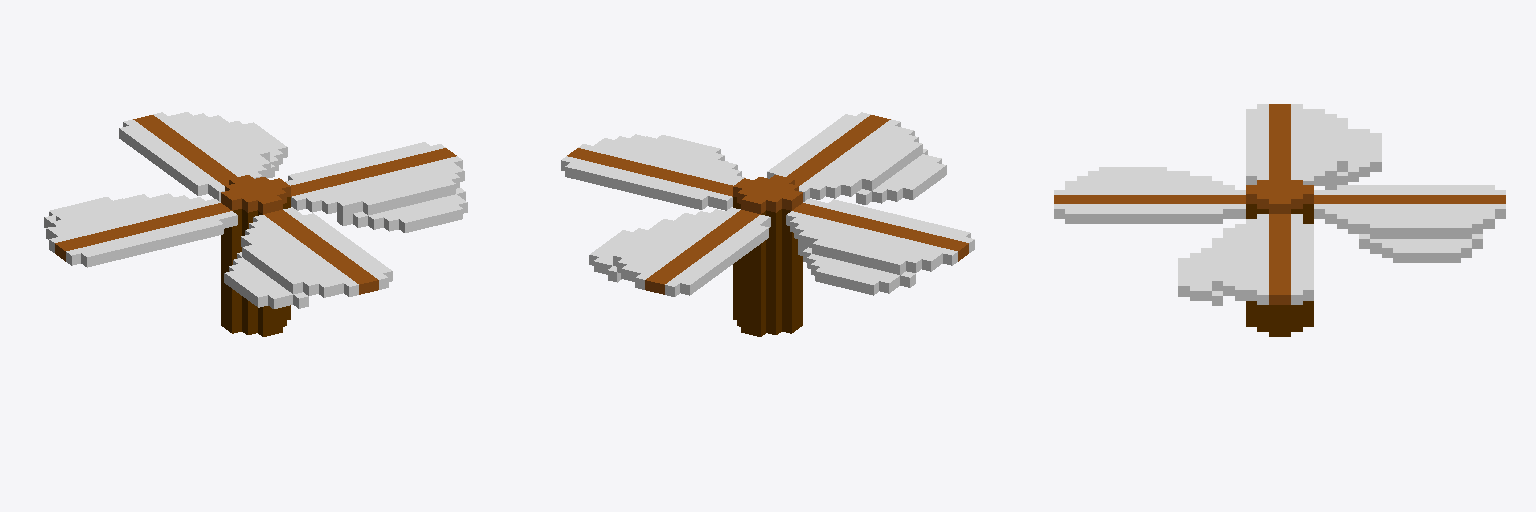
The picture shows the model from 3 angles: view 1: azimuth 30°, elevation 25°; view 2: azimuth 150°, elevation 25°; view 3: azimuth 270°, elevation 25°; orthographic projection.
Size of the model in its own units: 40 by 13 by 40.
Materials: 1 (1 with a texture image).